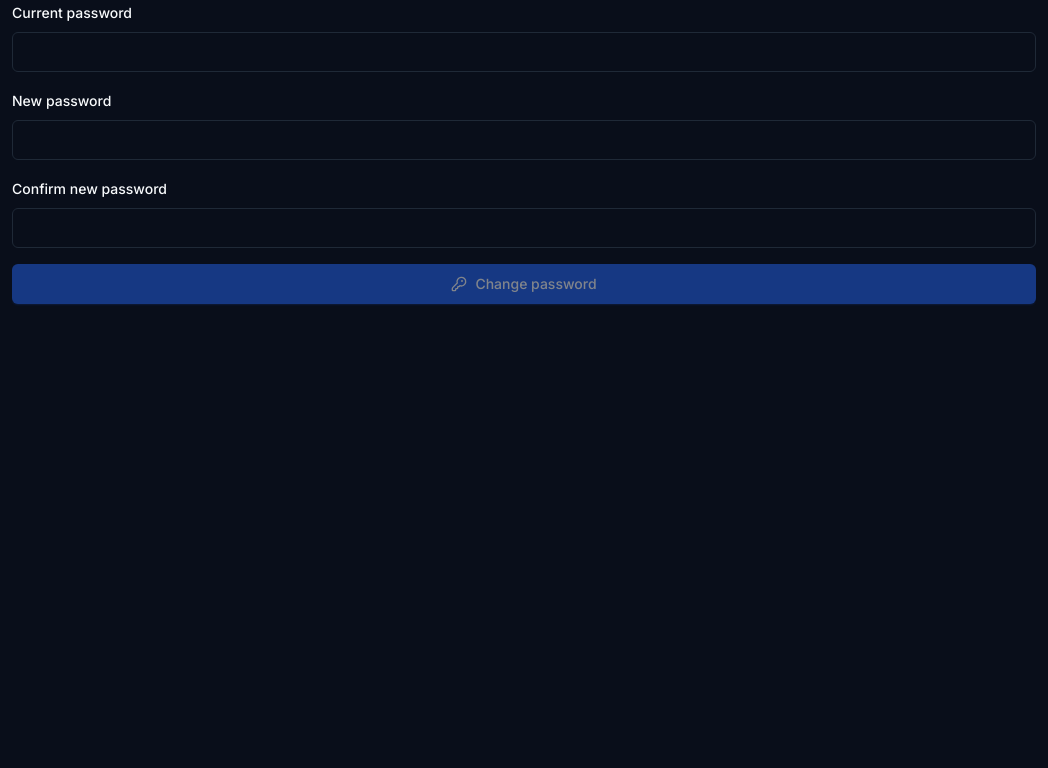
ChangePasswordForm › renders a wrong-current-password error from the server
Type "wrong-Password!1" into the password field labelled "Current password" at (524, 52), box [12,32,1036,72]
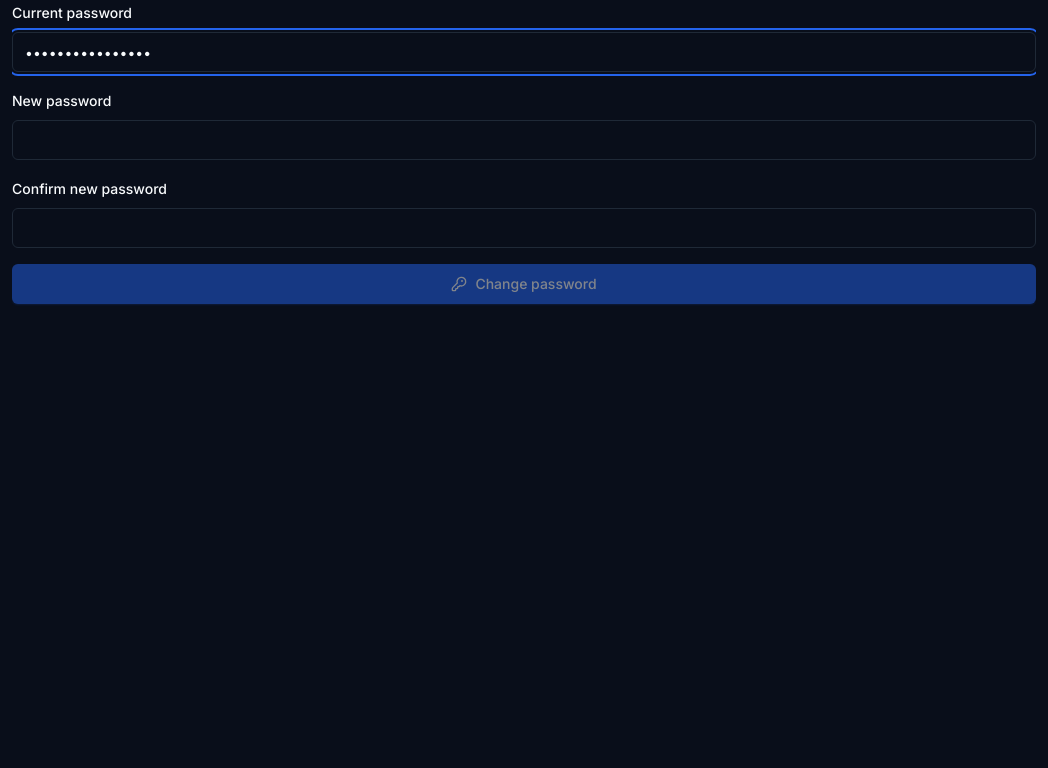
Type "Zt9$mQ2!vLp7Xw" into the password field labelled "New password" at (524, 140), box [12,120,1036,160]
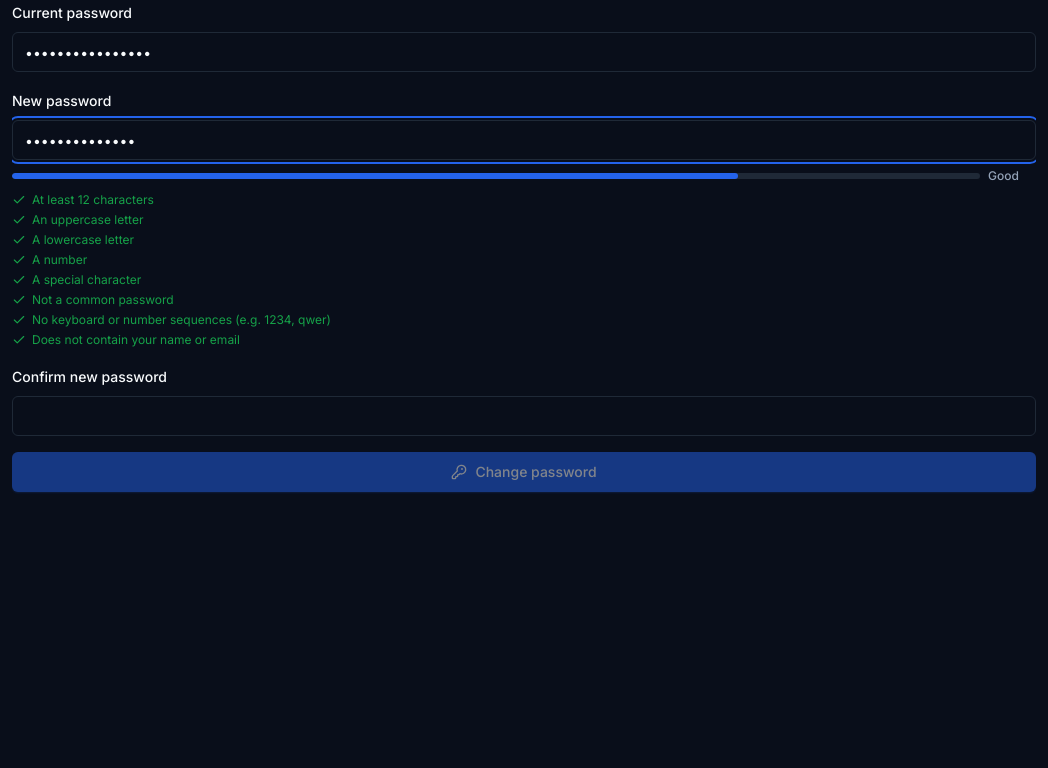
Type "Zt9$mQ2!vLp7Xw" into the password field labelled "Confirm new password" at (524, 416), box [12,396,1036,436]
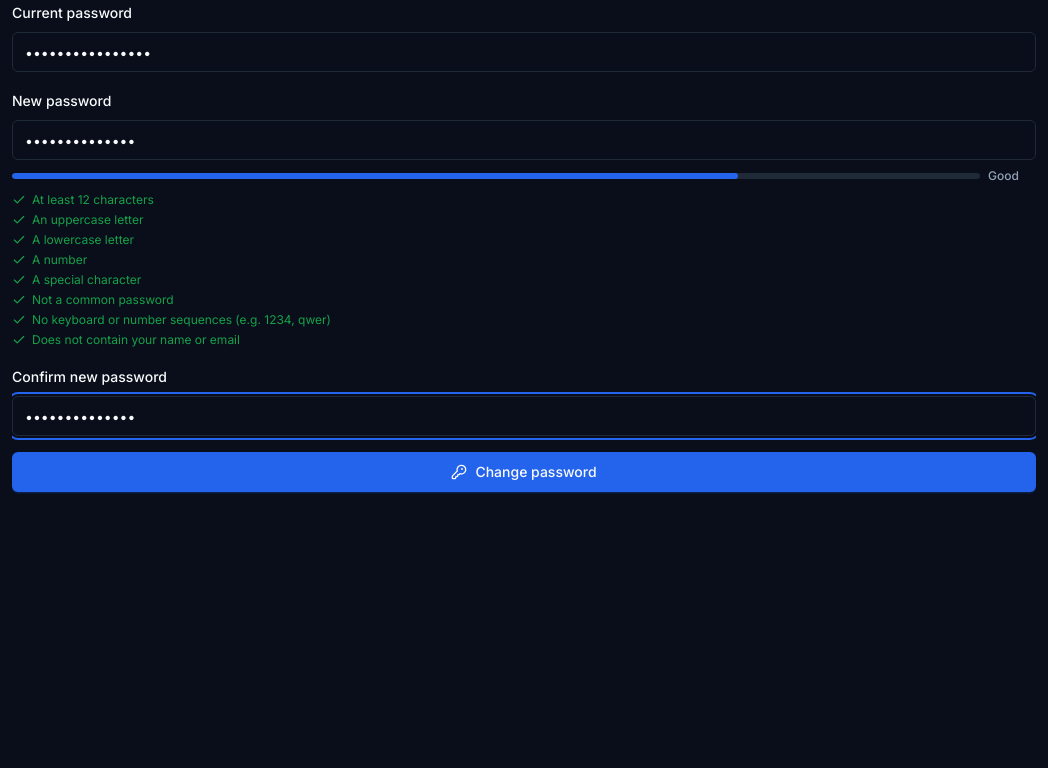
Click the button "Change password" at (524, 472), box [12,452,1036,492]
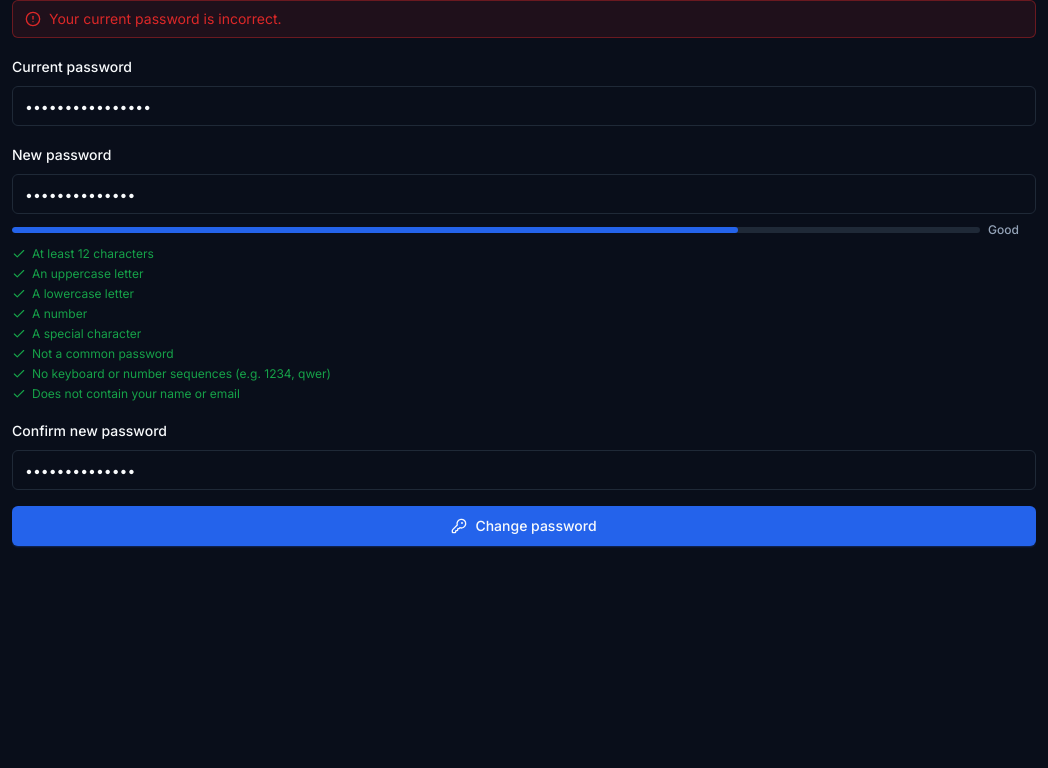
Expected: the message "Your current password is incorrect." is shown, [12,0,1036,38]
